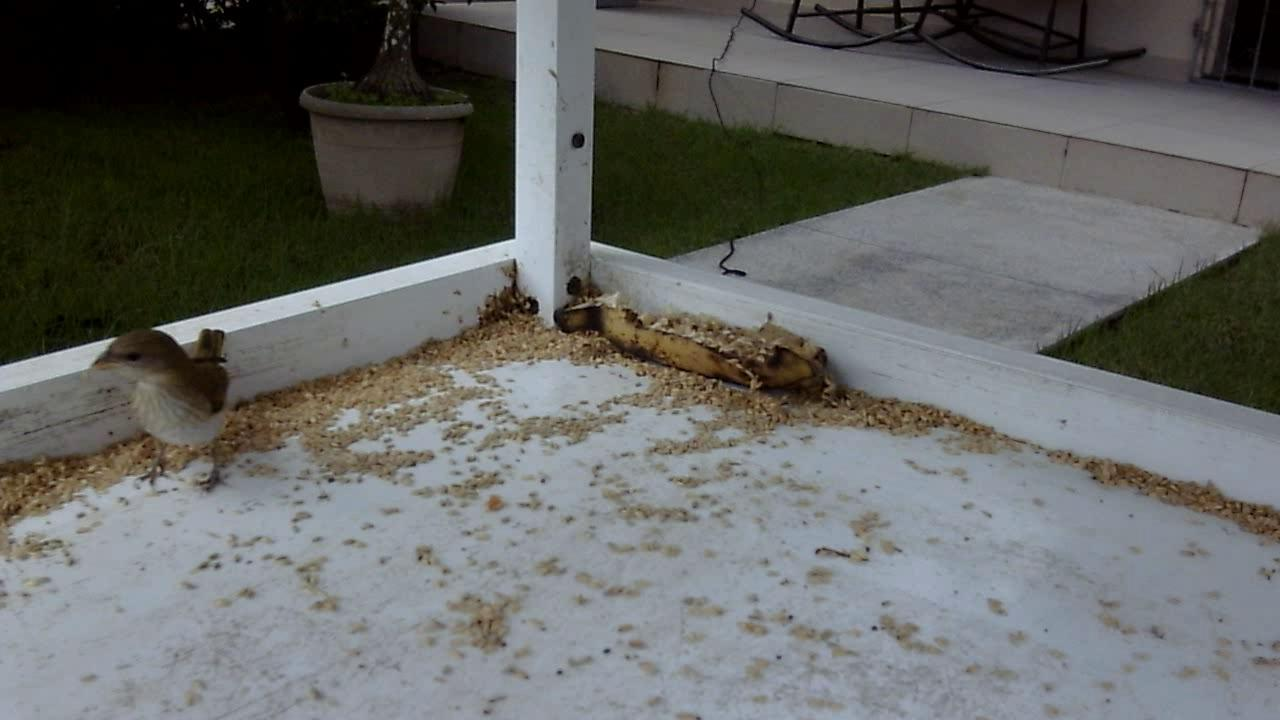canario_do_amazonas: (88, 318, 255, 501)
